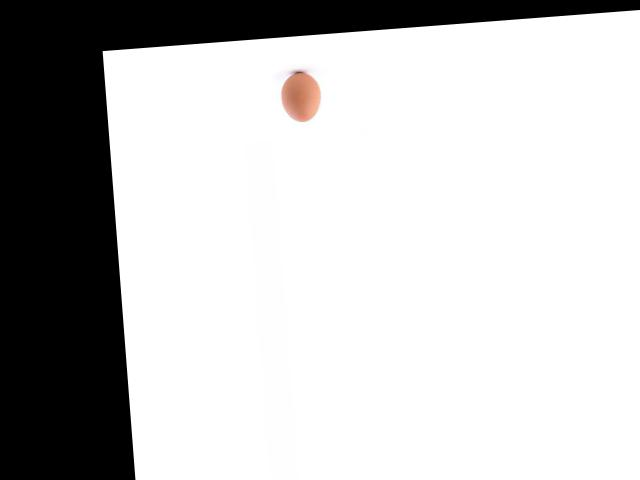egg: (278, 71, 322, 123)
